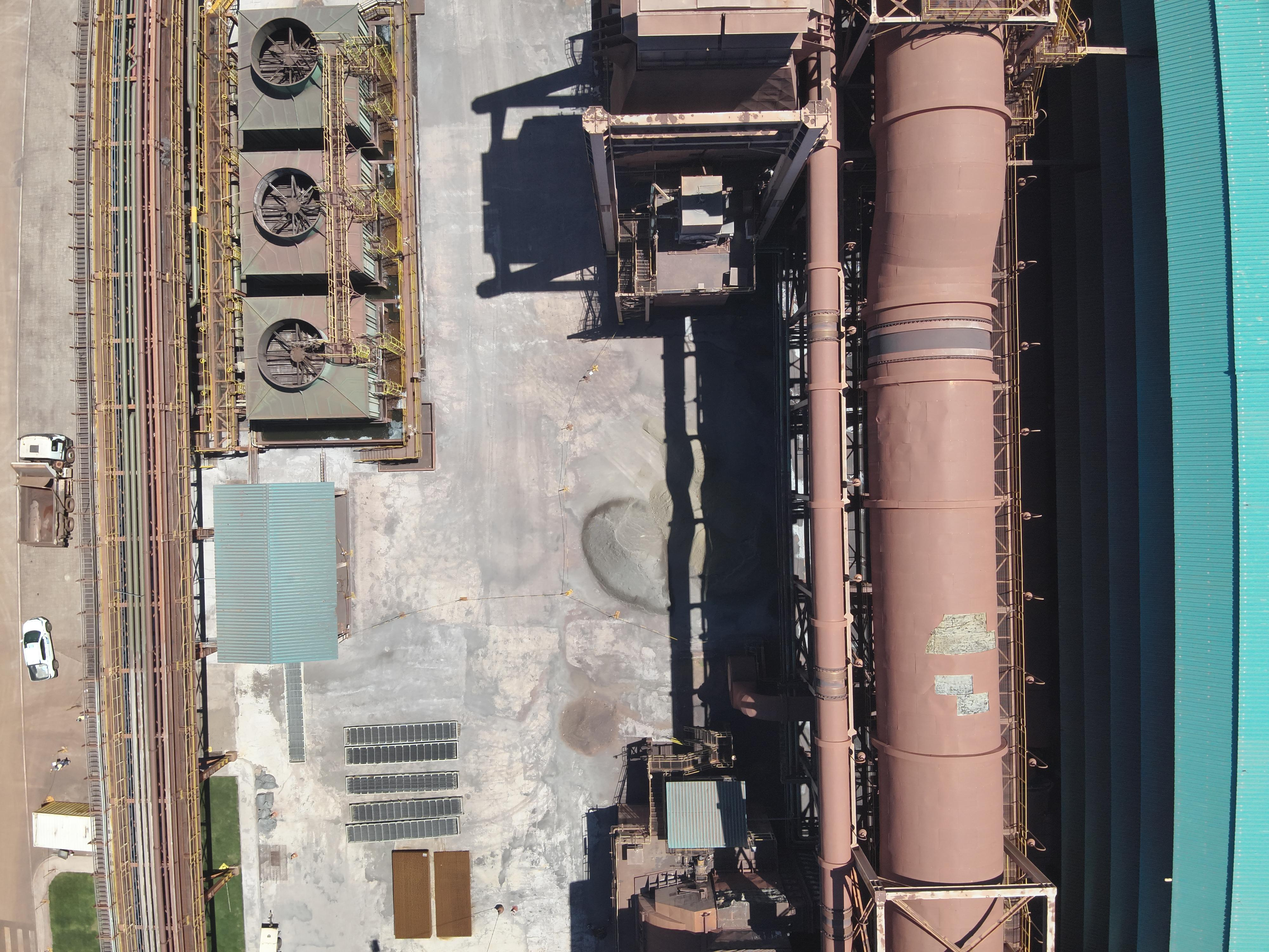Failures: (926, 612, 996, 655), (932, 673, 974, 696), (957, 692, 990, 714)
